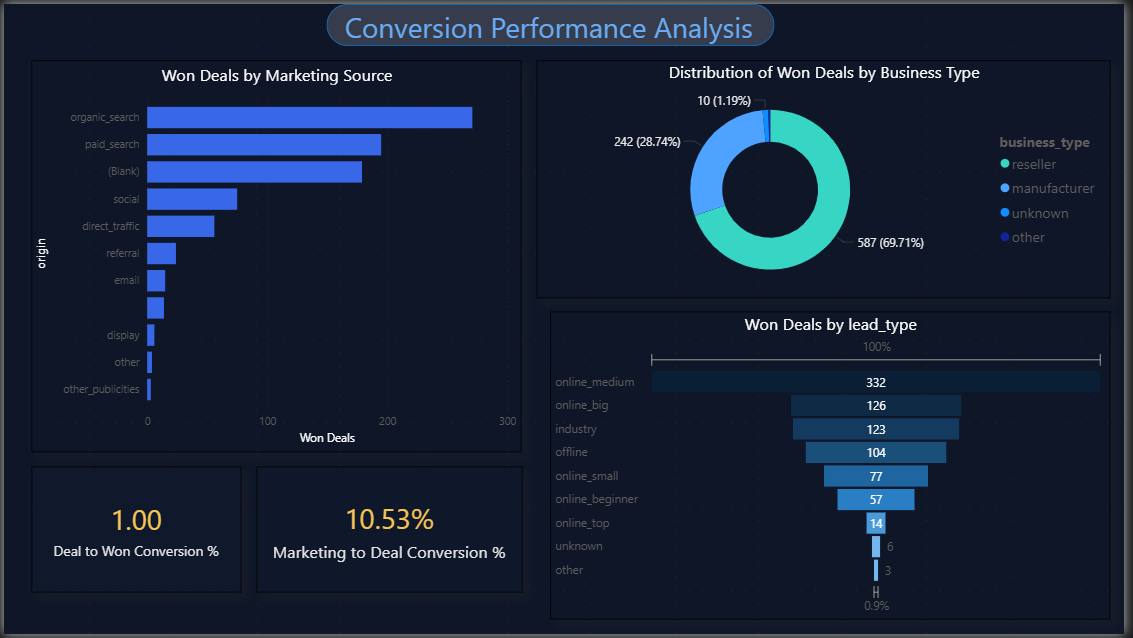

This screenshot's page, from the dashboard's own definition file:
{"tool":"powerbi","page":{"name":"Conversion Performance Analysis","canvas":[1280,720],"ordinal":1},"visuals":[{"type":"textbox","box":[384,0,496,64],"z":0},{"type":"clusteredBarChart","title":"Won Deals by Marketing Source","fields":{"Y":["cleaned_data.Won Deals"],"Category":["marketing_leads.origin"]},"box":[32,64,560,448],"z":1000},{"type":"donutChart","title":"Distribution of Won Deals by Business Type","fields":{"Y":["cleaned_data.Won Deals"],"Category":["cleaned_data.business_type"]},"box":[608,64,656,272],"z":2000},{"type":"card","fields":{"Values":["cleaned_data.Deal to Won Conversion %"]},"box":[32,528,240,144],"z":3000},{"type":"shape","box":[368,0,512,48],"z":4000},{"type":"card","fields":{"Values":["cleaned_data.Marketing to Deal Conversion %"]},"box":[288,528,304,144],"z":5000},{"type":"funnel","fields":{"Category":["cleaned_data.lead_type"],"Y":["cleaned_data.Won Deals"]},"box":[624,352,640,352],"z":6000}]}

Visuals, with their boxes in screenshot pixels (x1, y1, x2, y2), scaled from the page's 1280x720 canvas onto the 1133x638 screenshot:
textbox: detection(340, 0, 779, 57)
"Won Deals by Marketing Source" clusteredBarChart: detection(28, 57, 524, 454)
"Distribution of Won Deals by Business Type" donutChart: detection(538, 57, 1119, 298)
card - cleaned_data.Deal to Won Conversion %: detection(28, 468, 241, 595)
shape: detection(326, 0, 779, 43)
card - cleaned_data.Marketing to Deal Conversion %: detection(255, 468, 524, 595)
funnel - cleaned_data.lead_type x cleaned_data.Won Deals: detection(552, 312, 1119, 624)
